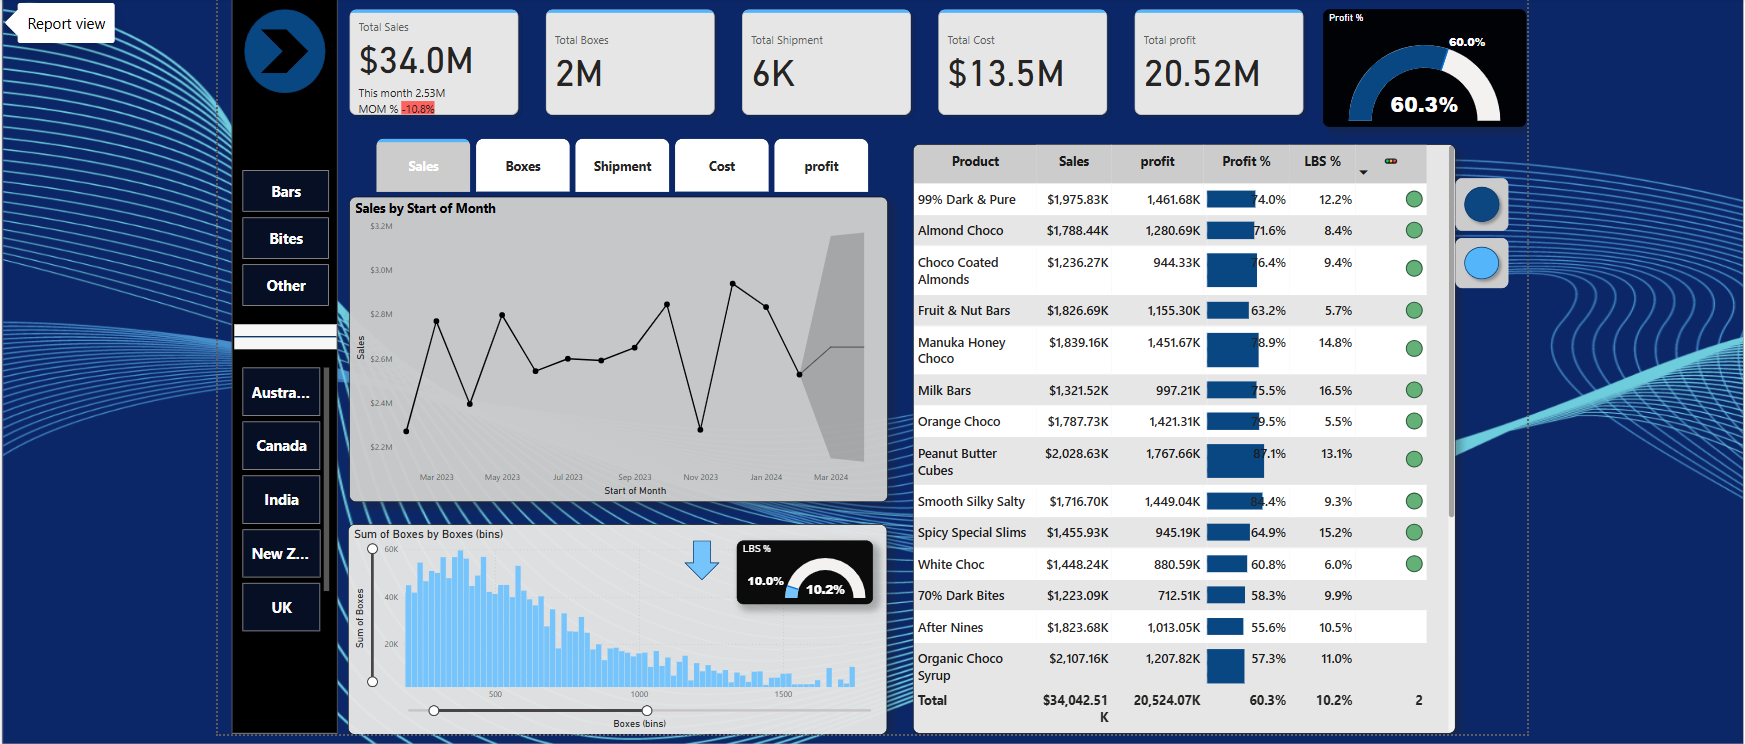

What the dashboard file says about the page in this screenshot:
{"tool":"powerbi","page":{"name":"Page 3","canvas":[1920,1080],"ordinal":0},"visuals":[{"type":"shape","box":[20.4,0,155.6,1079.6],"z":0},{"type":"cardVisual","fields":{"Data":["_Measure.Total Sales","_Measure.Total Boxes","_Measure.Total Shipment","_Measure.Total Cost","_Measure.Total profit"]},"box":[176.4,0,1436.4,189.1],"z":1000},{"type":"gauge","fields":{"Y":["_Measure.Profit %"]},"box":[1622,16.5,298.5,172.9],"z":2000},{"type":"shape","box":[39.2,15.7,119.6,123.5],"z":3000},{"type":"shape","box":[62.7,45.1,70.6,64.7],"z":4000},{"type":"lineChart","fields":{"Y":["_Measure.Total Sales"],"Category":["calendar.Start of Month"]},"box":[192.6,290.7,790.7,448.1],"z":5000},{"type":"advancedSlicerVisual","fields":{"Values":["Measure Selector.Measure Selector"]},"box":[227.5,202,733.3,88.2],"z":6000},{"type":"columnChart","fields":{"Y":["Sum(shipments.Boxes)"],"Category":["shipments.Boxes (bins)"]},"box":[190.9,772.7,790.9,309.1],"z":7000},{"type":"gauge","fields":{"Y":["_Measure.LBS %"]},"box":[760.4,795.8,200,93.8],"z":8000},{"type":"shape","box":[683.3,795.8,52.1,58.3],"z":9000},{"type":"tableEx","title":"Salesperson table","fields":{"Values":["people.Picture","people.Sales person","_Measure.Total Sales","_Measure.Total profit","_Measure.Profit %","_Measure.LBS %","_Measure.Profit taget indicator"]},"box":[1011.8,215.7,803.9,864.7],"z":10000},{"type":"shape","title":"Salesperson","box":[1815.5,264.8,77.5,77.5],"z":12000},{"type":"shape","title":"Product","box":[1815.2,352.9,77.3,74],"z":13000},{"type":"advancedSlicerVisual","fields":{"Values":["products.Category"]},"box":[31.4,247.1,137.3,209.8],"z":14000},{"type":"advancedSlicerVisual","fields":{"Values":["locations.Geo"]},"box":[31.4,537.3,137.3,402],"z":15000},{"type":"shape","box":[23.1,478.8,150,36.5],"z":16000}]}

Visuals, with their boxes on the page's 1920x1080 design canvas (x1, y1, x2, y2). These are canvas units, not pixel positions in the 1745x744 screenshot, which may show the page scaled, cropped or inside an application window:
shape: <bbox>20, 0, 176, 1080</bbox>
cardVisual - _Measure.Total Sales x _Measure.Total Boxes: <bbox>176, 0, 1613, 189</bbox>
gauge - _Measure.Profit %: <bbox>1622, 16, 1920, 189</bbox>
shape: <bbox>39, 16, 159, 139</bbox>
shape: <bbox>63, 45, 133, 110</bbox>
lineChart - _Measure.Total Sales x calendar.Start of Month: <bbox>193, 291, 983, 739</bbox>
advancedSlicerVisual - Measure Selector.Measure Selector: <bbox>228, 202, 961, 290</bbox>
columnChart - Sum(shipments.Boxes) x shipments.Boxes (bins): <bbox>191, 773, 982, 1082</bbox>
gauge - _Measure.LBS %: <bbox>760, 796, 960, 890</bbox>
shape: <bbox>683, 796, 735, 854</bbox>
"Salesperson table" tableEx: <bbox>1012, 216, 1816, 1080</bbox>
"Salesperson" shape: <bbox>1816, 265, 1893, 342</bbox>
"Product" shape: <bbox>1815, 353, 1892, 427</bbox>
advancedSlicerVisual - products.Category: <bbox>31, 247, 169, 457</bbox>
advancedSlicerVisual - locations.Geo: <bbox>31, 537, 169, 939</bbox>
shape: <bbox>23, 479, 173, 515</bbox>
